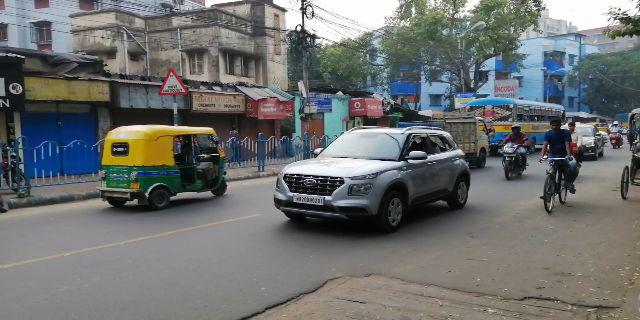Autorickshaw: (96, 125, 231, 212)
Car: (279, 128, 476, 222)
Cycle: (537, 118, 578, 216)
Motorbike: (497, 122, 531, 179)
